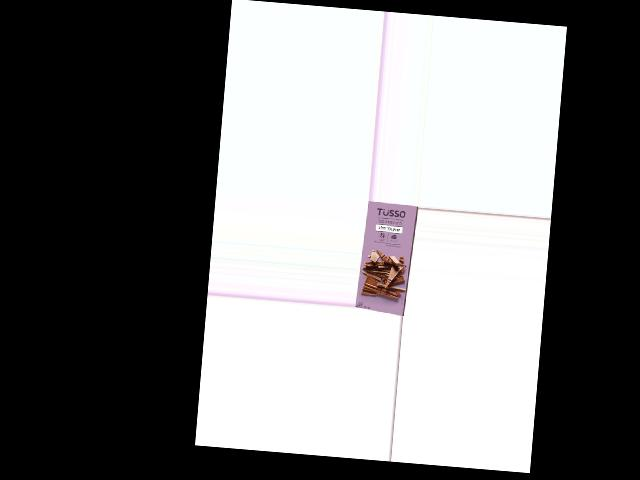chocolate: (357, 203, 415, 316)
